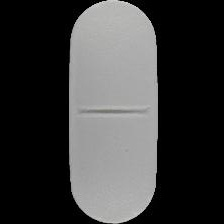51655-535: (0, 0, 224, 224)
